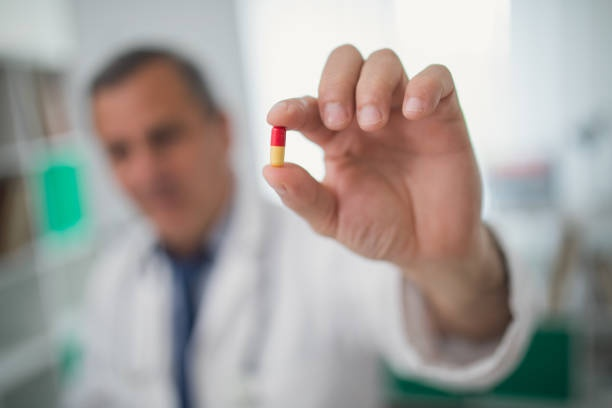pills: (267, 121, 302, 172)
